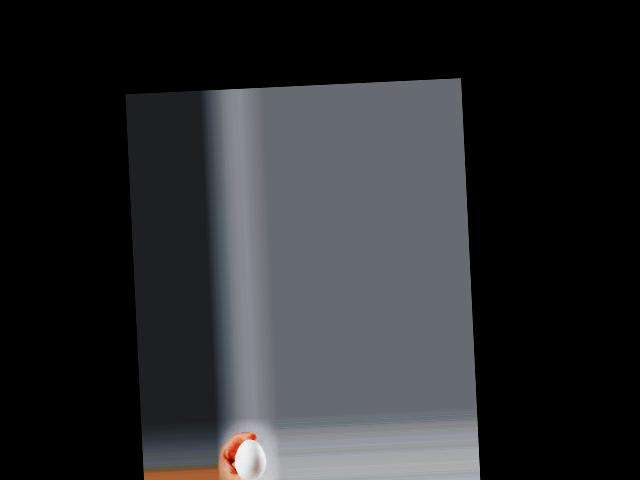egg: (234, 438, 266, 480)
